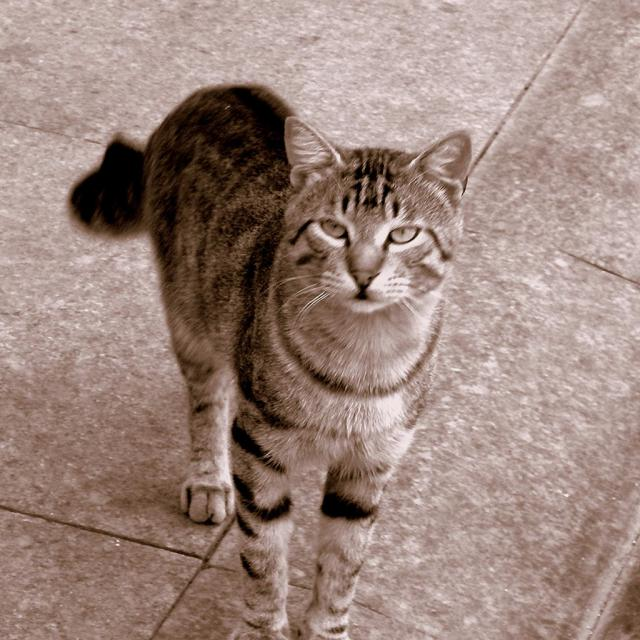cat: (69, 83, 474, 640)
